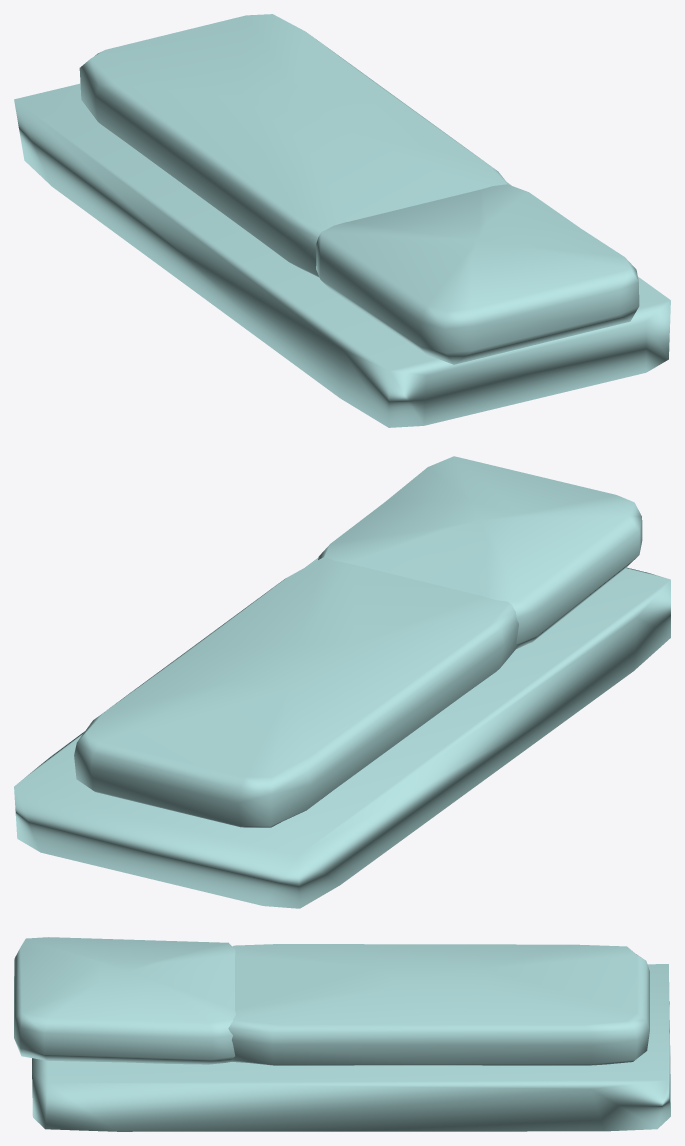
The model's file is Deckchair_02.fbx.
3 views of the same model, one above another, from view 1: azimuth 30°, elevation 25°; view 2: azimuth 150°, elevation 25°; view 3: azimuth 270°, elevation 25° (orthographic). The views are drawn at different scales.
Parts seen in each view (by area): view 1: Transat1; view 2: Transat1; view 3: Transat1.
Boxes of the visible parts, x1=… form: Transat1: x1=14, y1=14, x2=670, y2=427; Transat1: x1=14, y1=456, x2=670, y2=908; Transat1: x1=14, y1=937, x2=670, y2=1131.
Bounding box in the file's own units: 1.73 × 0.6775 × 4.
